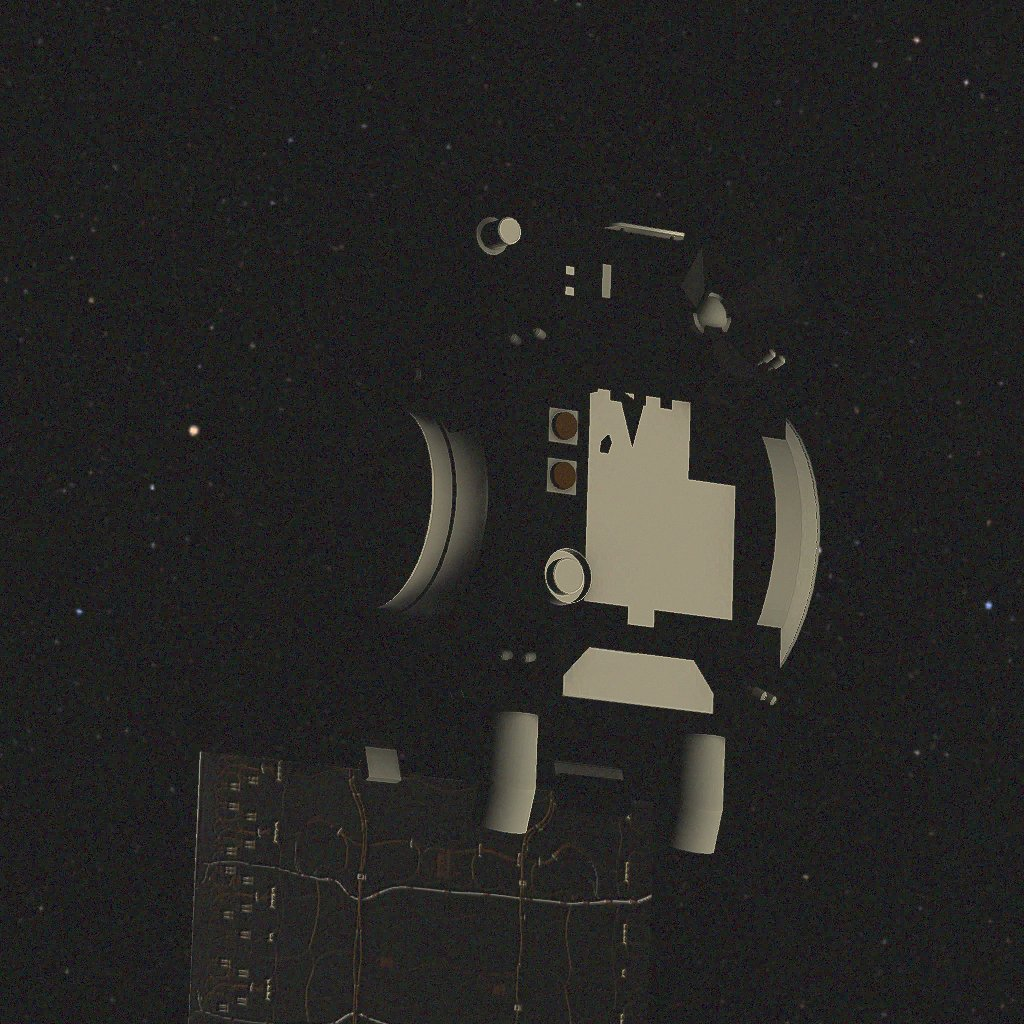proba_3_csc: (186, 214, 820, 1024)
